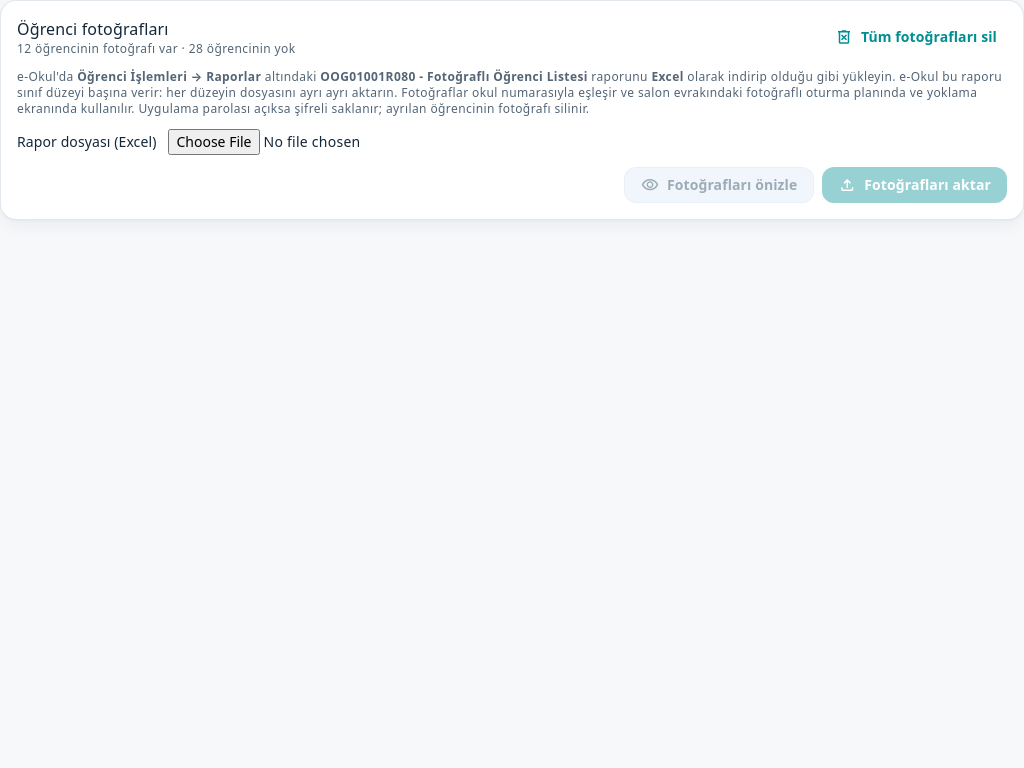
Test case: FotografPaneli › tüm fotoğrafları silme onaydan geçer
Step 1. Click the button "Tüm fotoğrafları sil" → x=916, y=37, box 825,19 -> 1007,55
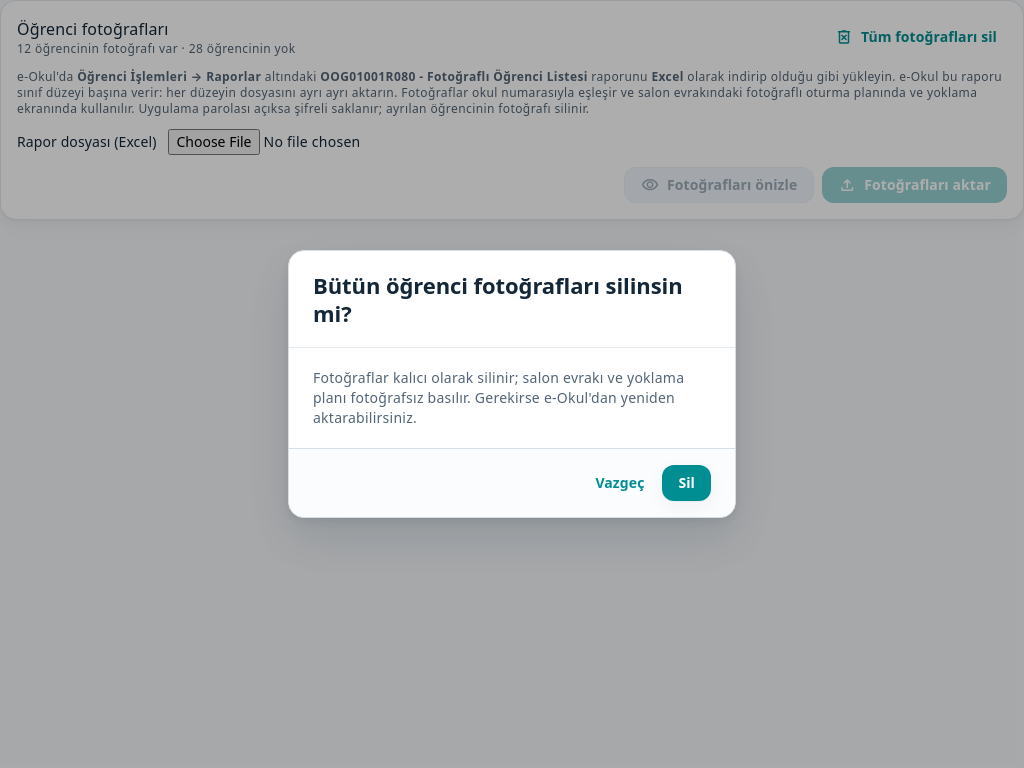
Now the dialog "Bütün öğrenci fotoğrafları silinsin mi?" is shown, box 288,250 -> 736,518
Step 2. Click the button "Sil" → x=687, y=483, box 662,465 -> 711,501
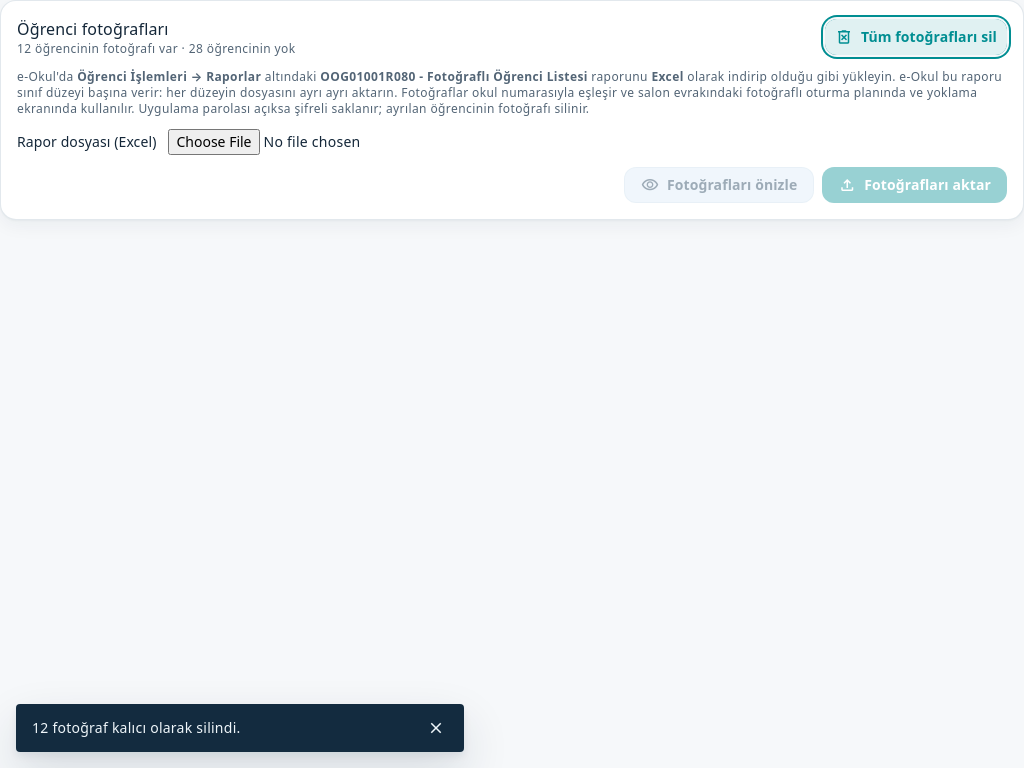
Now the text "12 fotoğraf kalıcı olarak silindi." is shown, box 32,718 -> 240,737
